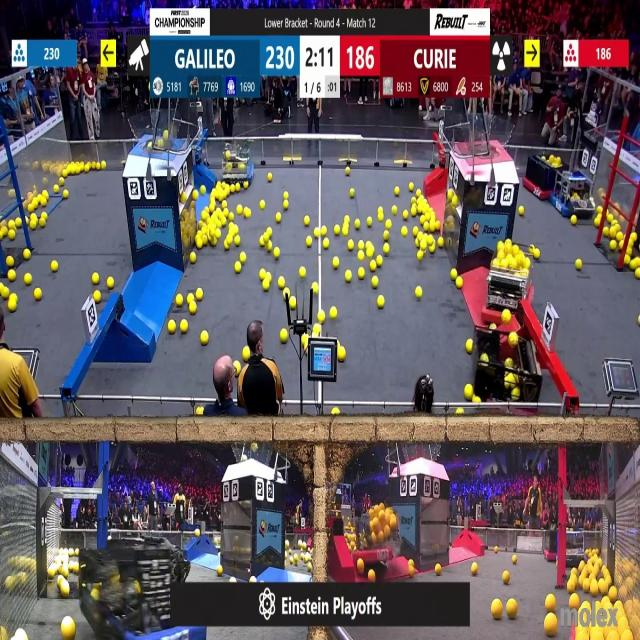ball_airborne: (164, 131, 170, 147)
ball_ground: (62, 618, 75, 640), (544, 616, 556, 638), (492, 600, 502, 620), (506, 600, 516, 619), (544, 594, 554, 612), (464, 384, 473, 400), (61, 583, 70, 599), (567, 581, 577, 595), (243, 346, 251, 362), (339, 348, 347, 362), (465, 340, 473, 354), (280, 328, 288, 342), (570, 595, 578, 609), (1, 285, 9, 299), (501, 310, 509, 324), (608, 588, 616, 602), (409, 562, 416, 577), (202, 333, 210, 346), (8, 300, 16, 312), (378, 296, 386, 308), (25, 274, 33, 286), (288, 296, 296, 308), (194, 288, 202, 300), (365, 245, 373, 257), (194, 237, 202, 249), (510, 334, 518, 346), (176, 293, 183, 306), (169, 321, 176, 334), (502, 570, 509, 583), (180, 320, 187, 333), (188, 304, 196, 315), (6, 256, 14, 267), (35, 288, 42, 300), (329, 308, 336, 320), (470, 563, 477, 575), (107, 277, 114, 289), (278, 277, 285, 289), (264, 280, 271, 292), (95, 290, 102, 302), (318, 312, 325, 324), (331, 256, 338, 268), (367, 569, 374, 581), (609, 228, 616, 240), (194, 408, 202, 418), (428, 244, 436, 254), (425, 235, 433, 245), (434, 564, 441, 575), (609, 240, 616, 251), (93, 274, 100, 285), (187, 292, 194, 303), (631, 261, 638, 272), (416, 286, 422, 298), (575, 260, 581, 272), (313, 282, 319, 294), (50, 263, 57, 273), (8, 271, 15, 281), (259, 270, 266, 280), (188, 252, 195, 262), (314, 324, 321, 334), (244, 207, 251, 217), (8, 231, 15, 241), (412, 206, 419, 216), (30, 220, 37, 230), (606, 214, 613, 224), (302, 336, 309, 346), (342, 225, 349, 235), (25, 249, 31, 260), (348, 240, 354, 251), (299, 268, 305, 279), (456, 278, 462, 289), (371, 277, 377, 288), (358, 269, 364, 280), (336, 224, 342, 235), (369, 262, 375, 273), (357, 560, 363, 571), (417, 231, 424, 240), (570, 215, 576, 225), (236, 264, 242, 274), (236, 236, 242, 246), (274, 248, 280, 258), (452, 270, 458, 280), (307, 237, 313, 247), (322, 239, 328, 249), (217, 565, 223, 575), (259, 238, 265, 248), (595, 217, 601, 227), (268, 241, 274, 251), (378, 255, 384, 265), (439, 238, 445, 248), (434, 220, 440, 230), (418, 250, 424, 260), (314, 229, 320, 239), (604, 228, 610, 238), (40, 218, 46, 228), (14, 218, 20, 228), (234, 224, 240, 234), (619, 240, 625, 250), (191, 190, 197, 200), (307, 562, 313, 572), (448, 189, 454, 199), (0, 229, 5, 241), (237, 206, 244, 214), (456, 410, 464, 417), (631, 234, 638, 242), (596, 206, 603, 214), (384, 244, 389, 255), (241, 252, 246, 263), (519, 207, 525, 216), (402, 210, 408, 219), (283, 201, 289, 210), (394, 186, 400, 195), (424, 222, 430, 231), (268, 226, 274, 235), (624, 255, 630, 264), (266, 272, 272, 281), (99, 159, 105, 168), (617, 233, 623, 242), (84, 163, 90, 172), (420, 214, 426, 223), (75, 167, 81, 176), (227, 224, 233, 233), (347, 272, 352, 282), (305, 216, 310, 226), (366, 217, 371, 227), (384, 232, 389, 242), (321, 226, 326, 236), (401, 226, 406, 236), (534, 250, 539, 260), (250, 575, 256, 583), (386, 220, 392, 228), (418, 241, 424, 249), (236, 183, 242, 191), (413, 227, 419, 235), (331, 410, 337, 418), (350, 188, 356, 196), (226, 236, 232, 244), (202, 212, 208, 220), (55, 184, 61, 192), (40, 199, 46, 207), (196, 532, 202, 540), (63, 170, 69, 178), (236, 360, 242, 368), (40, 212, 46, 220), (284, 540, 290, 548), (277, 213, 282, 222), (259, 201, 264, 210), (392, 206, 397, 215), (355, 219, 360, 228), (64, 189, 69, 198), (358, 251, 363, 260), (216, 231, 221, 240), (201, 185, 206, 194), (358, 241, 363, 250), (513, 556, 518, 565), (228, 213, 233, 222), (244, 182, 250, 189), (221, 202, 227, 209), (494, 545, 500, 552), (212, 239, 217, 247), (269, 174, 274, 182), (346, 168, 351, 176), (636, 270, 640, 280), (223, 242, 228, 250), (379, 214, 384, 222), (284, 288, 289, 296), (627, 247, 632, 255), (223, 209, 227, 218), (231, 576, 237, 582), (345, 216, 350, 223), (379, 208, 384, 215), (284, 190, 288, 198), (410, 182, 414, 190), (61, 177, 65, 185), (417, 188, 421, 196), (217, 220, 221, 228)
goal: (460, 119, 516, 158), (128, 116, 186, 152)
robot_blue: (86, 537, 201, 638), (550, 167, 595, 220), (220, 147, 254, 187)
robot_red: (474, 342, 541, 416), (346, 497, 400, 571), (487, 242, 531, 310), (544, 521, 577, 564)
